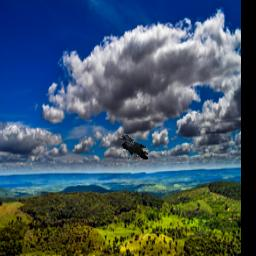Crow: (118, 135, 148, 162)
